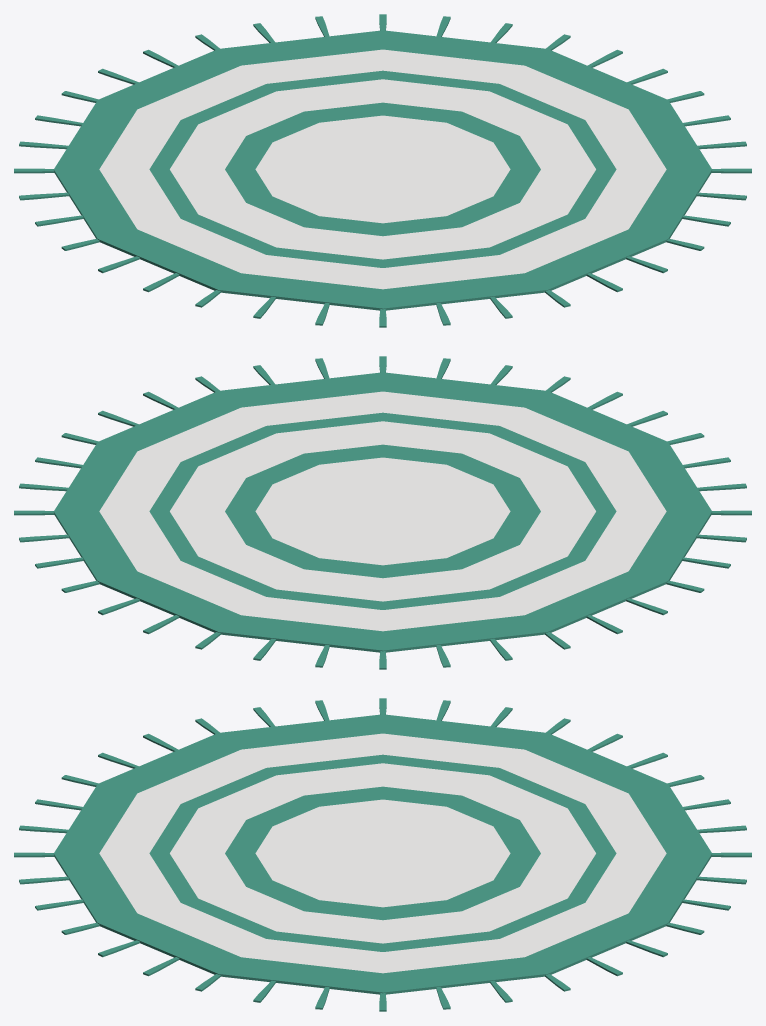
The model's file is Carpet_22.fbx.
3 views of the same model, one above another, from view 1: azimuth 30°, elevation 25°; view 2: azimuth 150°, elevation 25°; view 3: azimuth 270°, elevation 25° (orthographic).
Parts seen in each view (by area): view 1: Carpet_22; view 2: Carpet_22; view 3: Carpet_22.
Part boxes in pixels (x1,y1,x2,y2): Carpet_22: [14, 14, 751, 327]; Carpet_22: [14, 356, 751, 669]; Carpet_22: [14, 698, 751, 1011].
Bounding box in the file's own units: 318 × 318 × 1.15.
